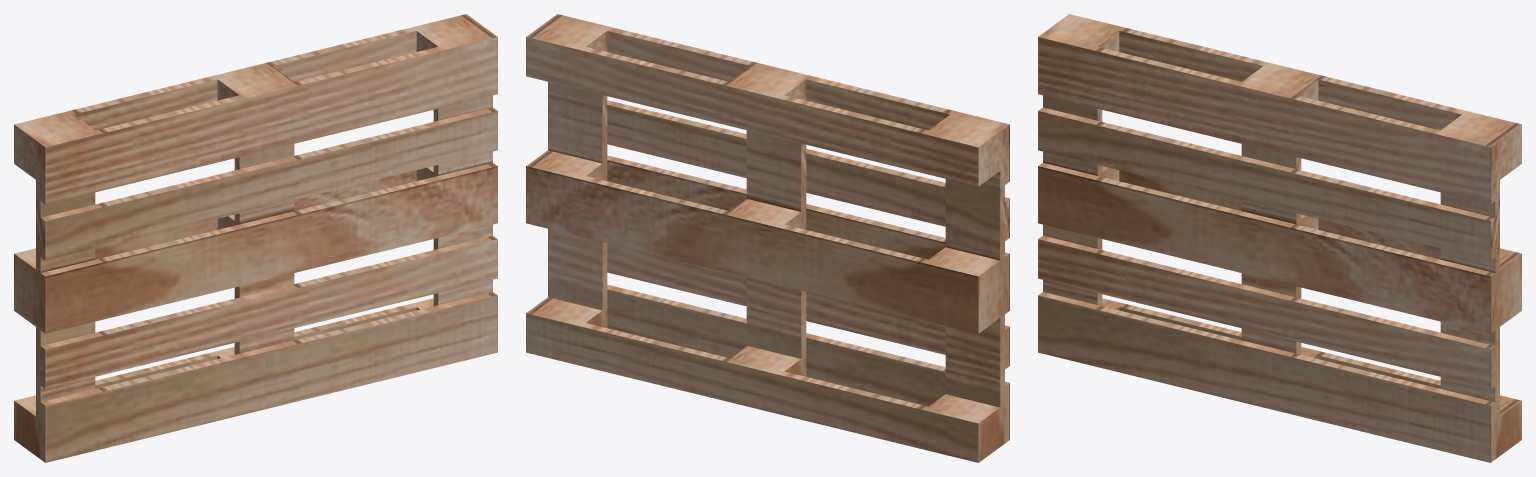
Rendered from New_EURO_EPAL_Pallet.obj.
The picture shows the model from 3 angles, left to right: view 1: azimuth 30°, elevation 25°; view 2: azimuth 150°, elevation 25°; view 3: azimuth 330°, elevation 25°; orthographic projection.
Bounding box in the file's own units: 1.2 × 0.8 × 0.144.
1 material, 1 textured.
